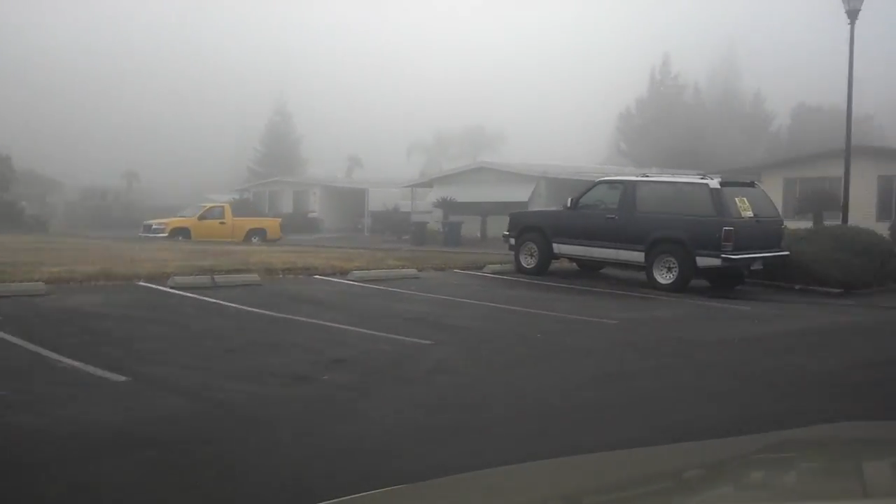car: (501, 171, 792, 290), (137, 200, 284, 252)
